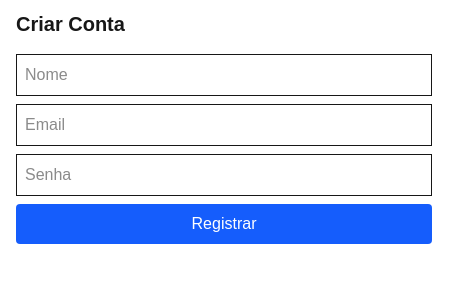
RegisterPage › valida e mostra erro se campos estiverem vazios
The width and height of the screenshot is (449, 289).
Click the button "Registrar". click: (224,224)
box: [16,204,432,244]
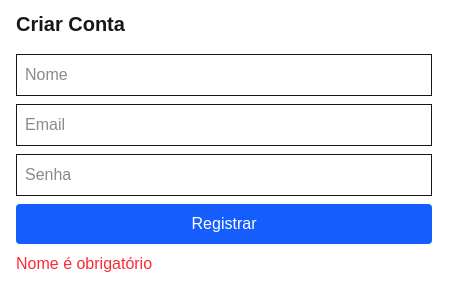
Expected: the text "Nome é obrigatório" is shown, [16,255,152,272]
